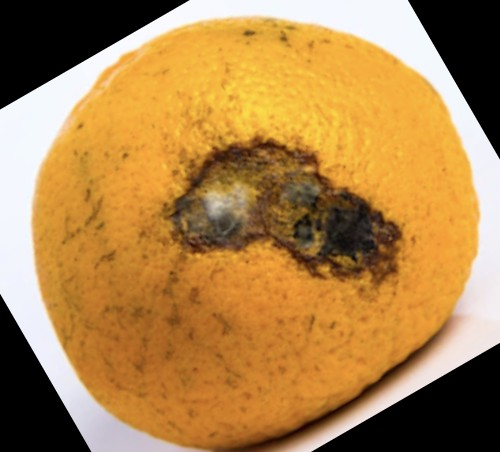rotten_orange: (33, 18, 480, 449)
